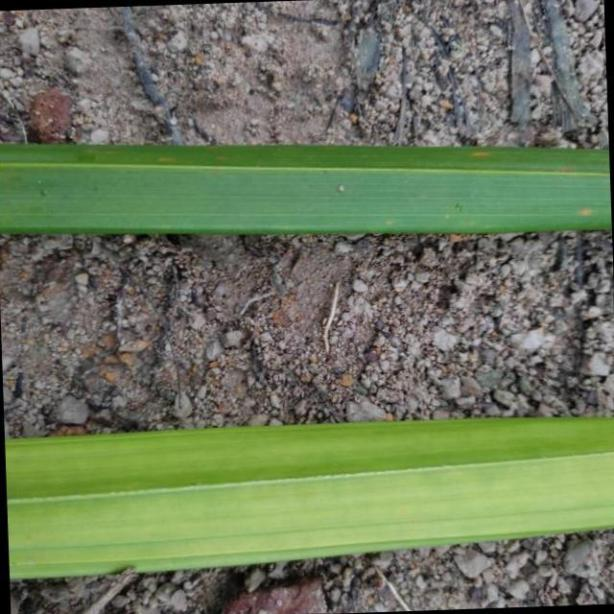nitrogen: (0, 410, 614, 578), (0, 141, 614, 238)
